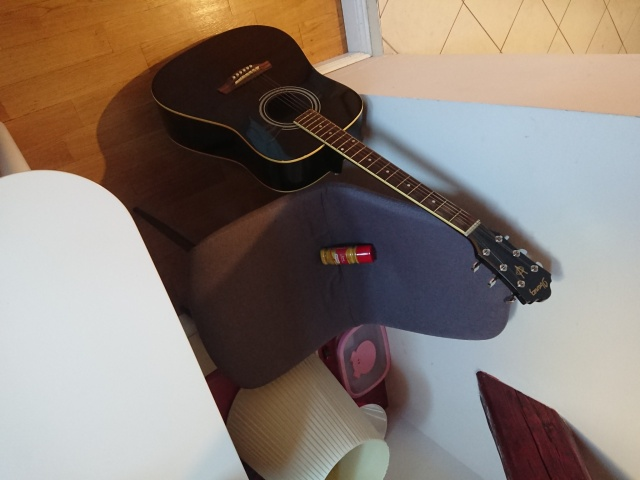Kotanyi Curry Spices Mix 70g: (316, 242, 377, 268)
